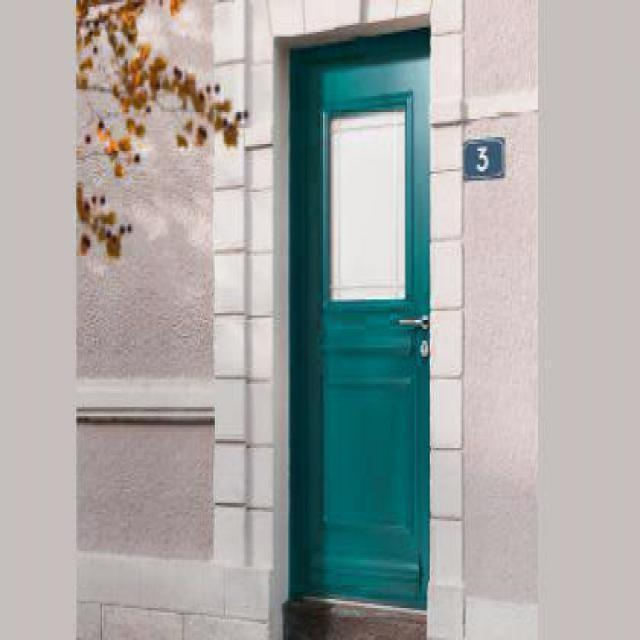door: (286, 27, 431, 611)
